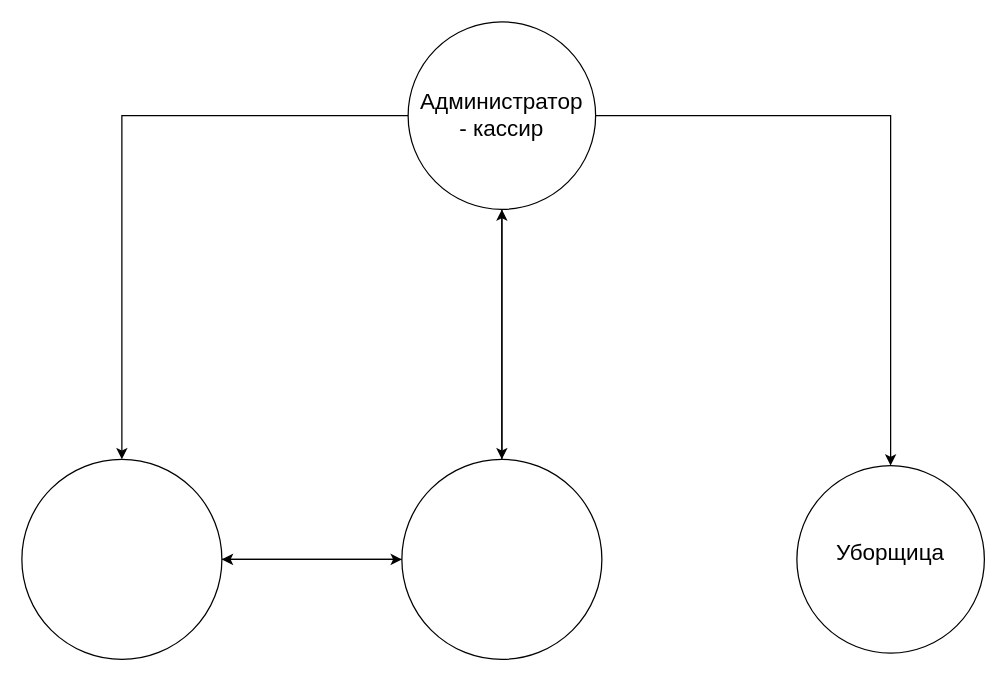
Image size: 1006x681. Some labels were removed from this diagram. Each missing label, with the box of its shape:
Официант: (401, 458, 602, 659)
Повар: (21, 458, 222, 659)
